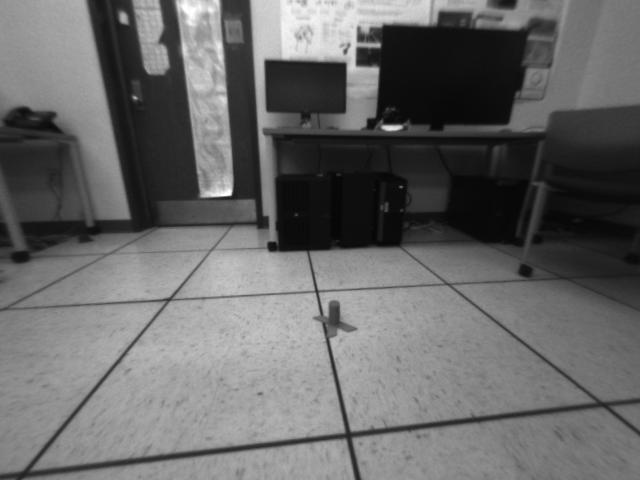X: (312, 299, 358, 339)
